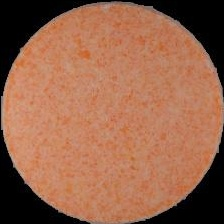23155-110: (0, 0, 224, 224)
